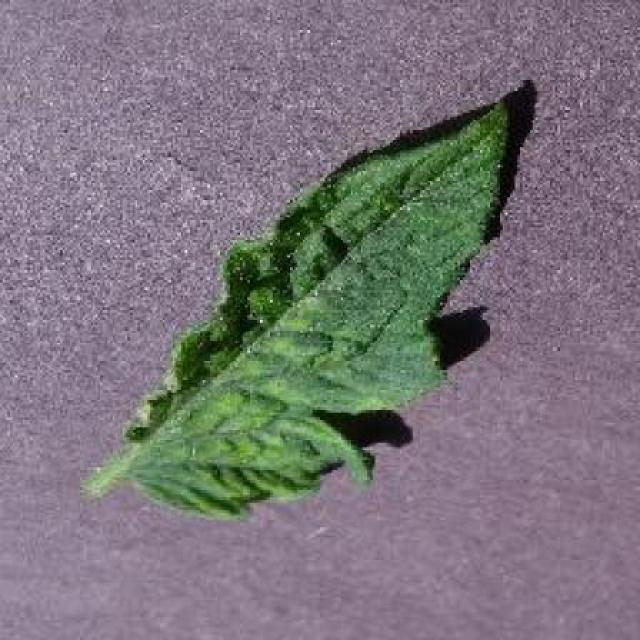Mosaic Virus: (124, 94, 515, 525)
